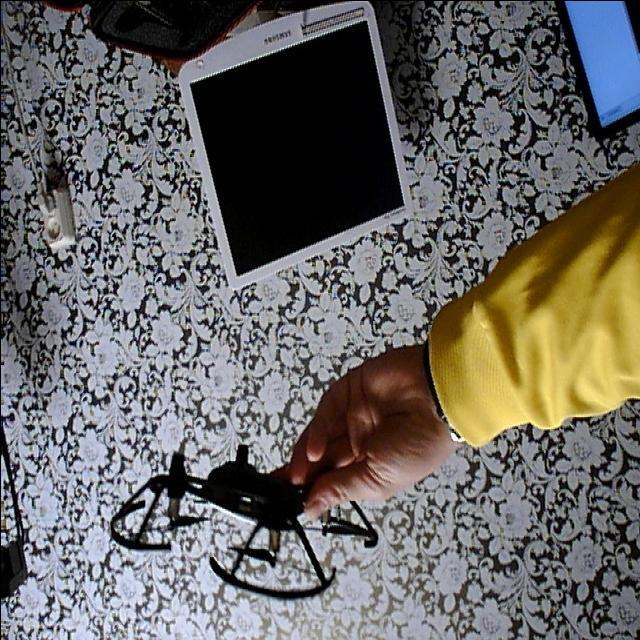drone: (90, 428, 386, 612)
